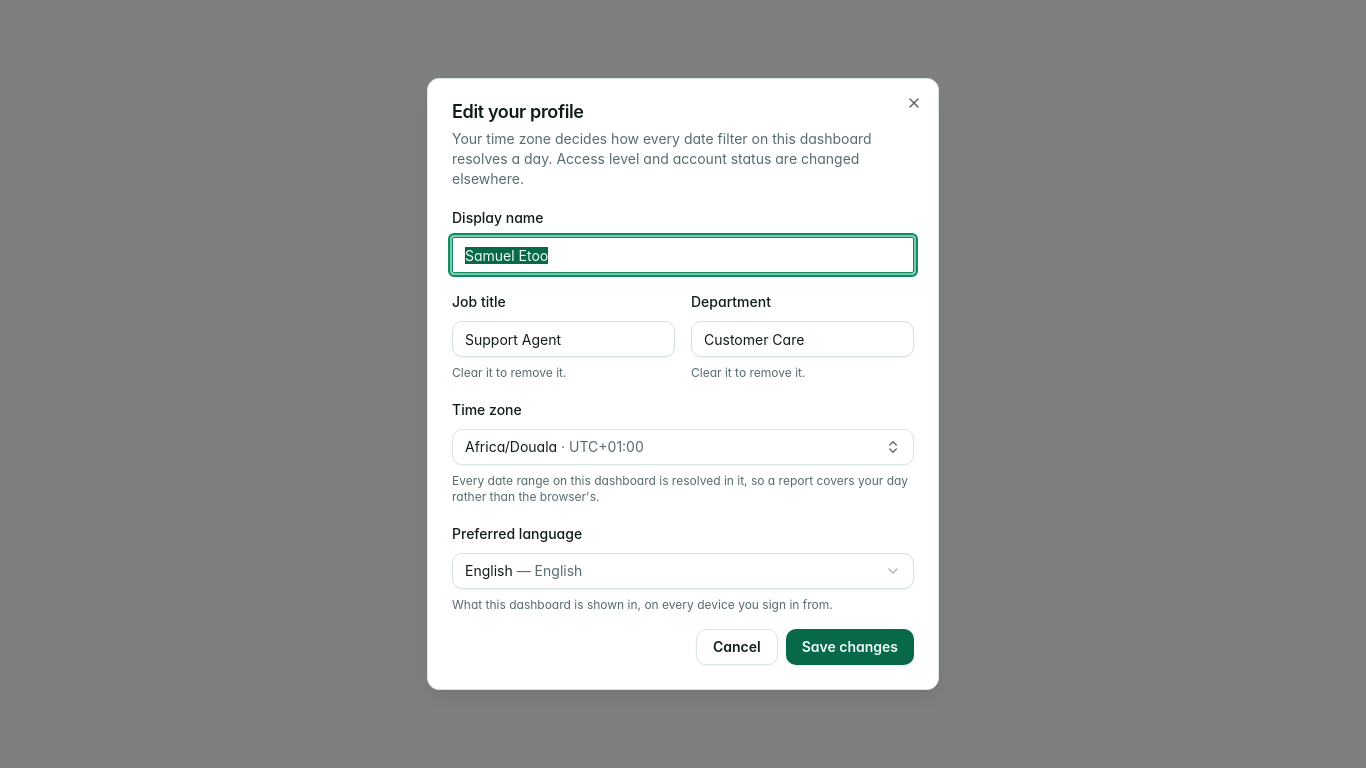
Test: EditAdministratorDialog, in self mode › offers the language as a choice rather than a text box
This screenshot has width=1366, height=768.
Click the dropdown named "preferred language" at (489, 570), box left=452, top=553, right=914, bottom=589
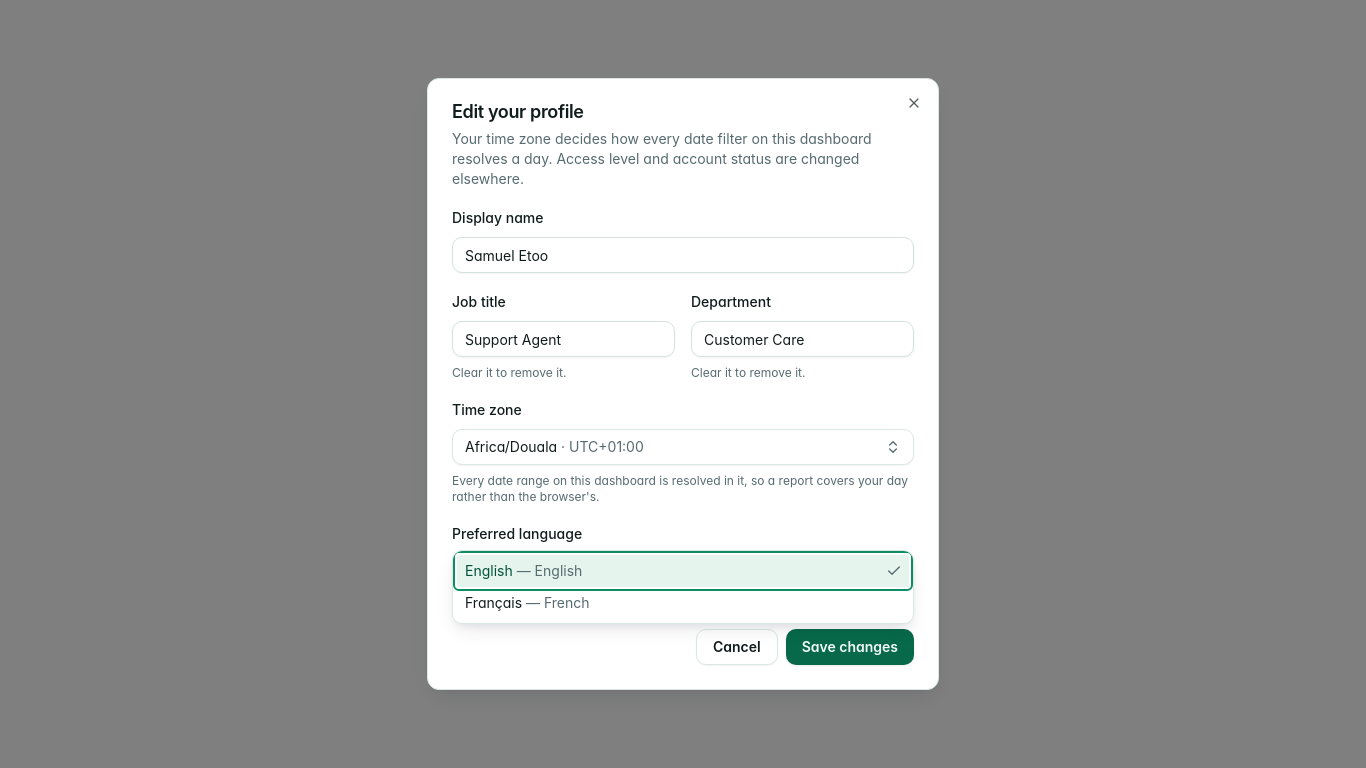
expect the option "Français — French" is shown: met, box left=465, top=594, right=590, bottom=611
expect the option "English — English" is shown: met, box left=457, top=555, right=909, bottom=587
